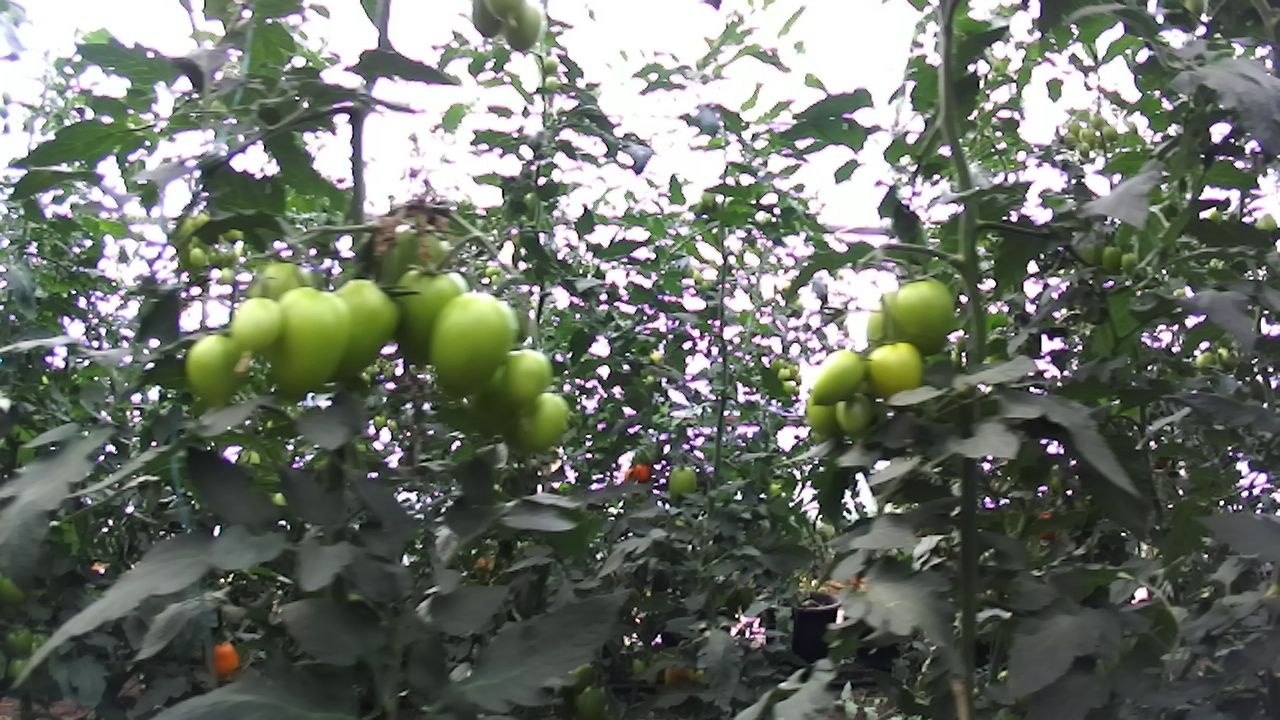tomato: (318, 258, 418, 420), (256, 268, 362, 420), (414, 273, 528, 406), (385, 251, 488, 384), (170, 322, 266, 420), (882, 267, 967, 360), (480, 329, 566, 416), (502, 376, 585, 462), (217, 286, 306, 361), (799, 339, 879, 413), (860, 335, 934, 412), (494, 0, 550, 64), (800, 385, 850, 441), (829, 386, 879, 441), (203, 631, 248, 687), (0, 612, 45, 666), (660, 460, 705, 511), (465, 0, 511, 47), (571, 676, 615, 720), (1097, 238, 1132, 277), (1192, 346, 1223, 379), (182, 242, 213, 273), (1115, 248, 1143, 279), (538, 47, 564, 79), (629, 457, 657, 486), (1076, 123, 1103, 153), (538, 70, 567, 96), (1099, 120, 1125, 148), (215, 263, 240, 288), (780, 374, 802, 398), (774, 362, 794, 386)
